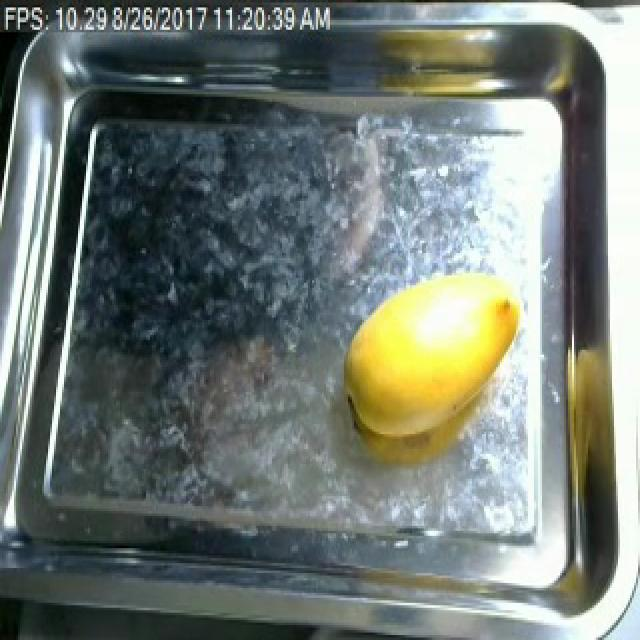fruit: (330, 265, 530, 454), (466, 5, 600, 104)
